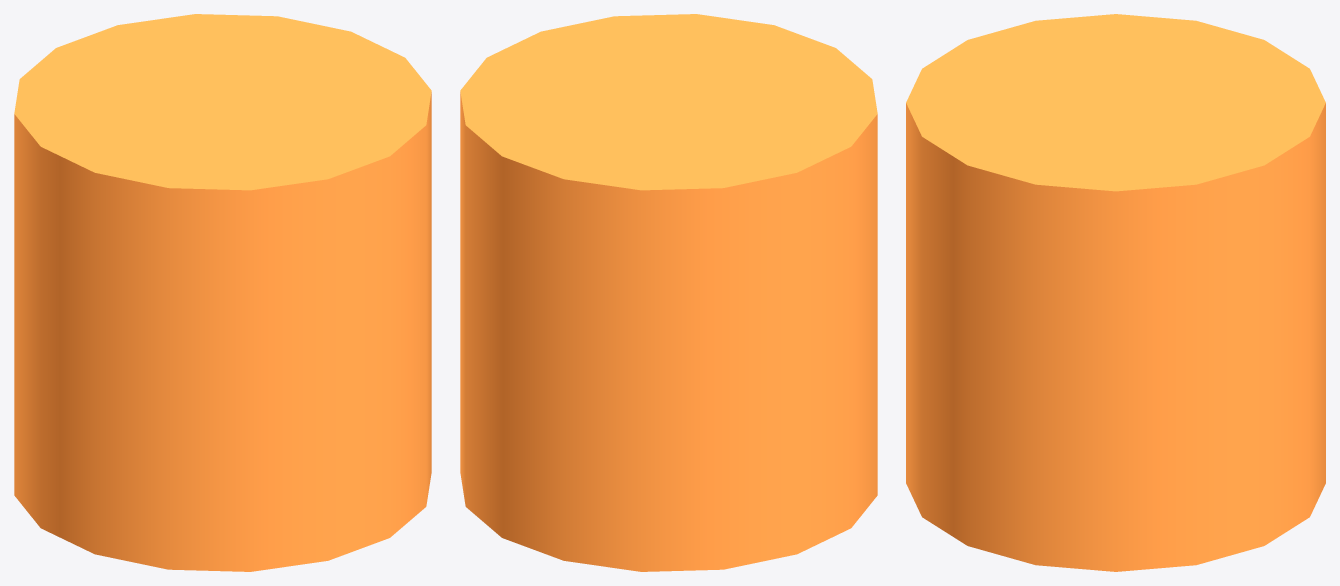
3 renders of one model, left to right at view 1: azimuth 30°, elevation 25°; view 2: azimuth 150°, elevation 25°; view 3: azimuth 270°, elevation 25°, orthographic.
Parts seen in each view (by area): view 1: cylinder-amber; view 2: cylinder-amber; view 3: cylinder-amber.
Boxes of the visible parts, x1,y1,x2,y2 form: cylinder-amber: (14,14,431,571); cylinder-amber: (460,14,877,571); cylinder-amber: (906,14,1325,571).
Bounding box in the file's own units: 1 × 1 × 1.
